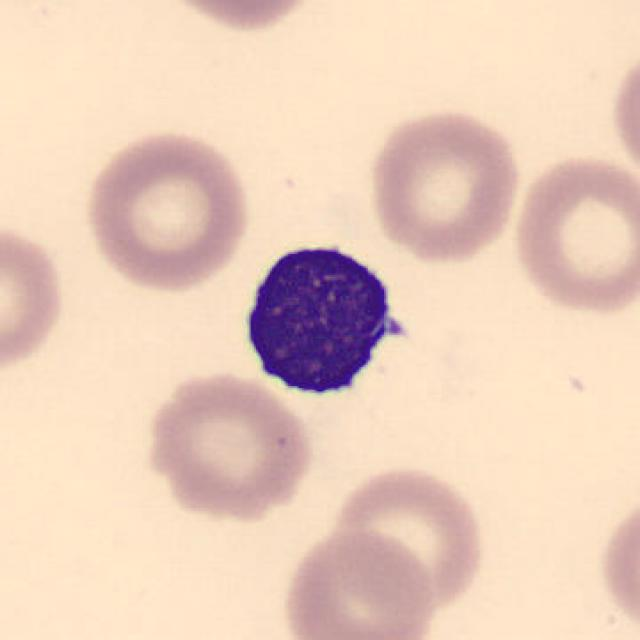Lymphocyte: (229, 224, 427, 409)
RBC: (78, 125, 256, 295), (139, 366, 318, 524), (362, 104, 524, 266), (329, 460, 489, 614), (507, 148, 638, 321), (277, 523, 437, 640), (0, 215, 69, 382), (594, 485, 640, 638), (144, 0, 329, 35), (606, 41, 640, 185)
